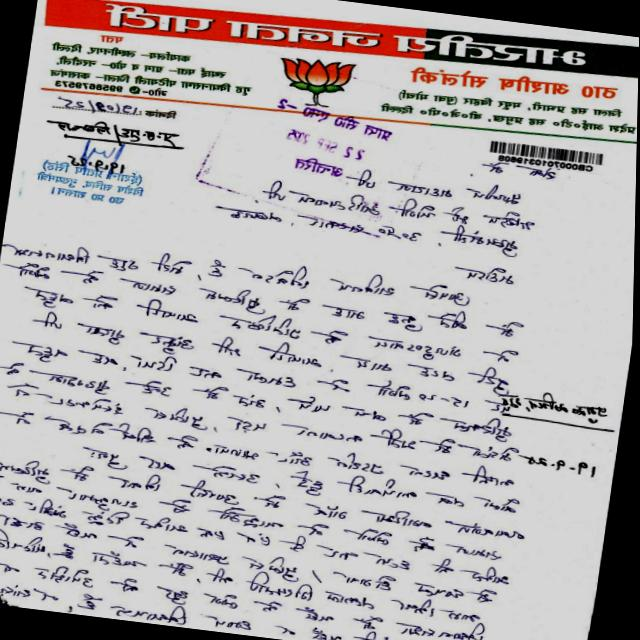antritgovtstamp: (240, 90, 401, 194)
barcode: (477, 134, 607, 178)
letterhead: (25, 0, 640, 159)
